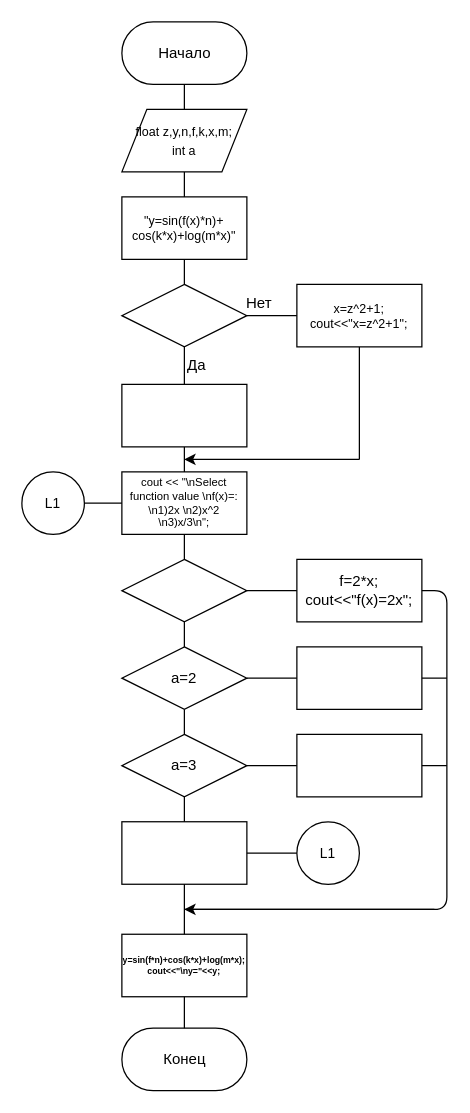
This 470x1113 diagram has some shape labels left out. The centre of each missing label's shape, as x and y in pixels:
a=1: [184,590]
cout<<"Try again";: [184,852]
f=x/3; cout<<"f(x)=x/3";: [359,765]
f=x^2; cout<<"f(x)=x^2": [359,677]
x = z; cout << "x = z";: [184,415]
z>1: [184,315]
